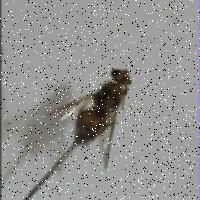Oriental-fruit-fly: (50, 40, 151, 178)
